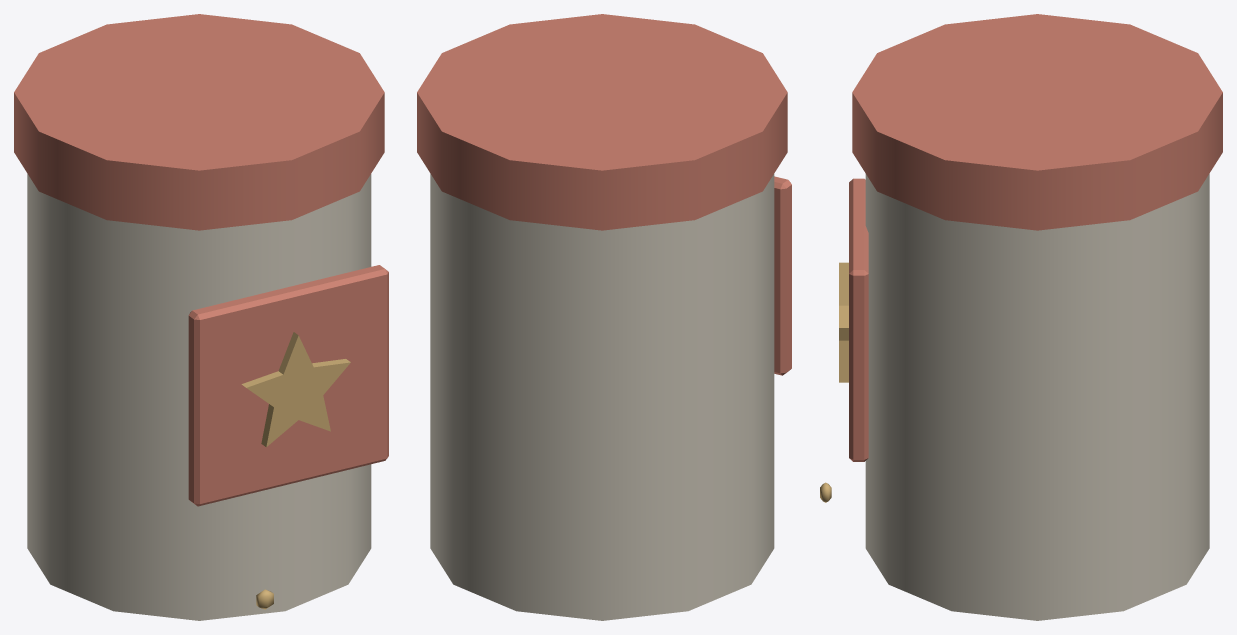
3 views of the same model, side by side, from view 1: azimuth 30°, elevation 25°; view 2: azimuth 150°, elevation 25°; view 3: azimuth 270°, elevation 25° (orthographic).
Parts seen in each view (by area): view 1: g_s09; view 2: g_s09; view 3: g_s09.
Part boxes in pixels (left/top/right/bottom): g_s09: left=14, top=14, right=388, bottom=620; g_s09: left=417, top=14, right=791, bottom=620; g_s09: left=820, top=14, right=1222, bottom=620.
Size of the model in its own units: 0.28 by 0.38 by 0.3043.
